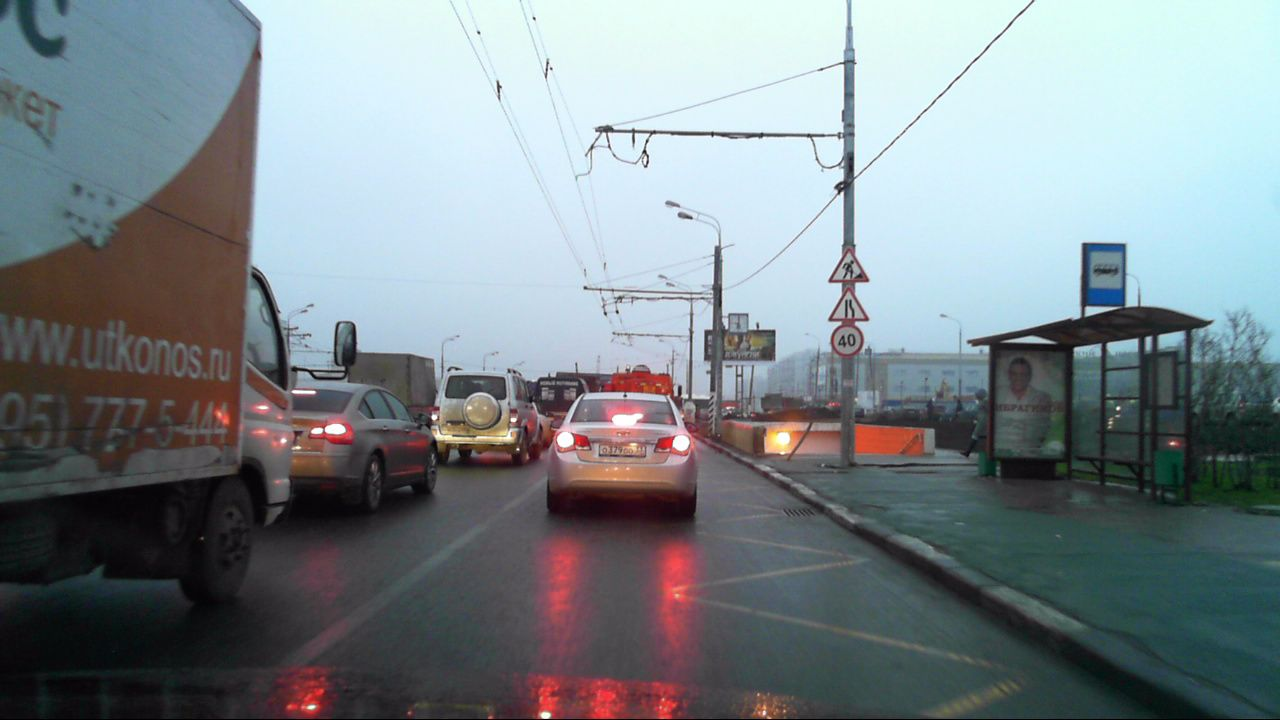speed_warning_40: (830, 325, 864, 358)
